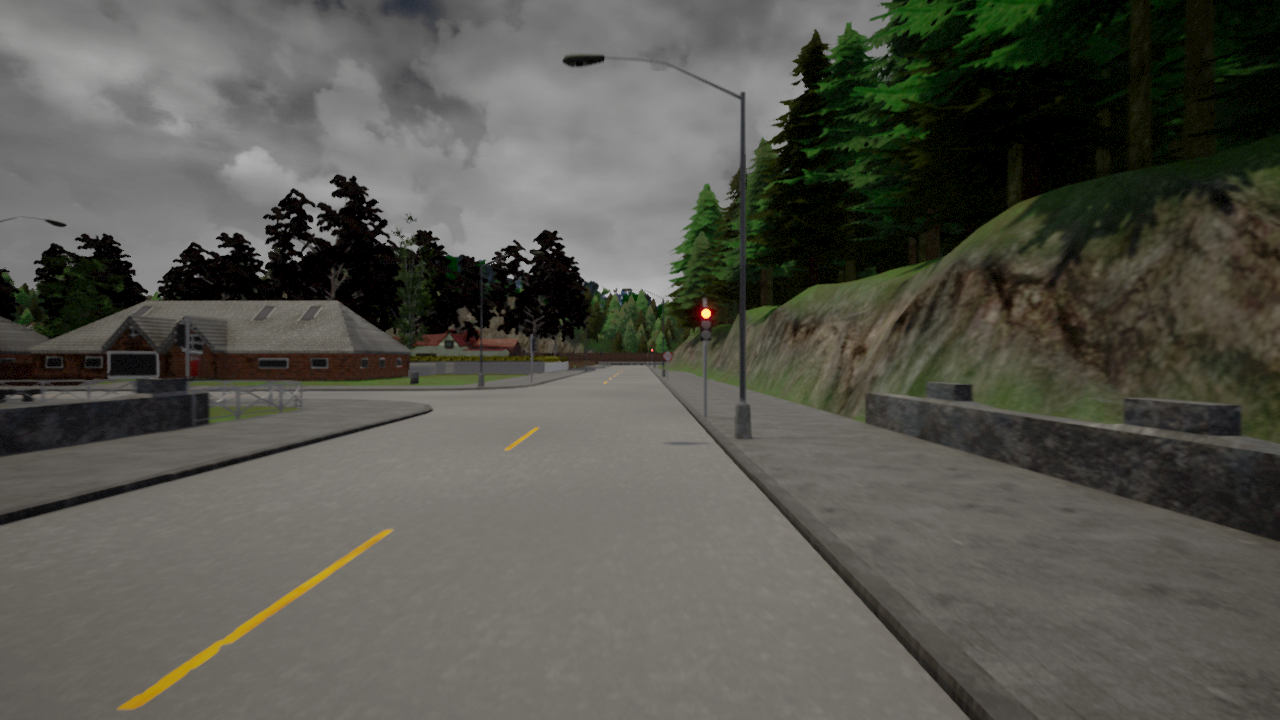red: (699, 306, 714, 341)
